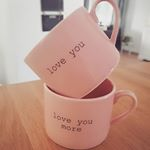cups: (23, 1, 129, 99), (41, 74, 141, 150)
